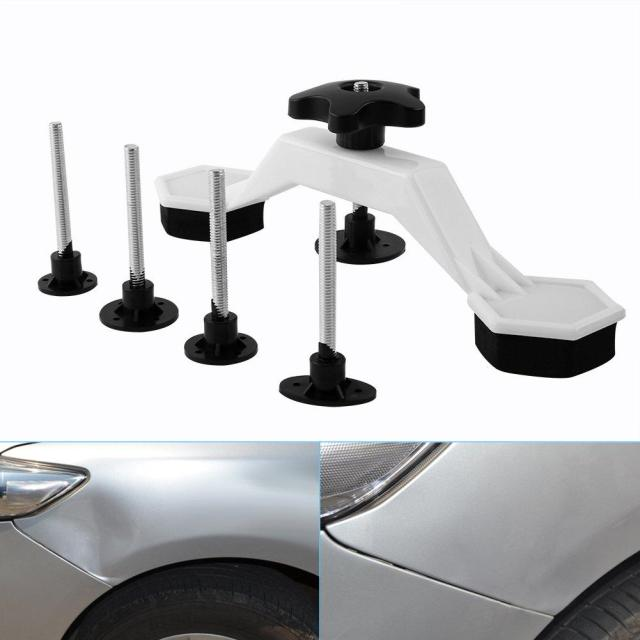dent: (13, 482, 144, 584)
